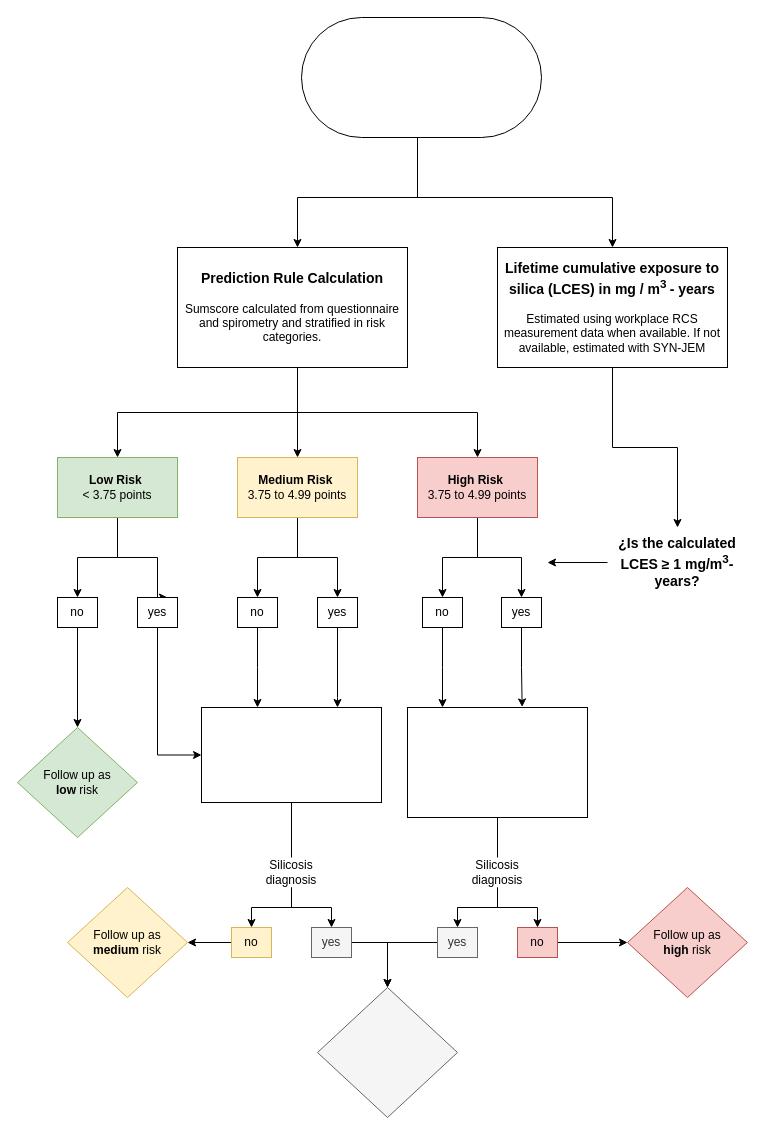
Image size: 765x1135. Some labels were removed from this diagram. The centre of each missing label's shape, as x and y in pixels:
Hospital referral, other advanced measures: [387,1052]
Initial screening Questionnaire Spirometry Exposure assessment: [421,77]
Medical Examination Questionnaire NKAL HRCT Lung Function Tests: [291,754]
Medical Examination Questionnaire NKAL HRCT Lung Function Tests Additional Tests: [497,762]
